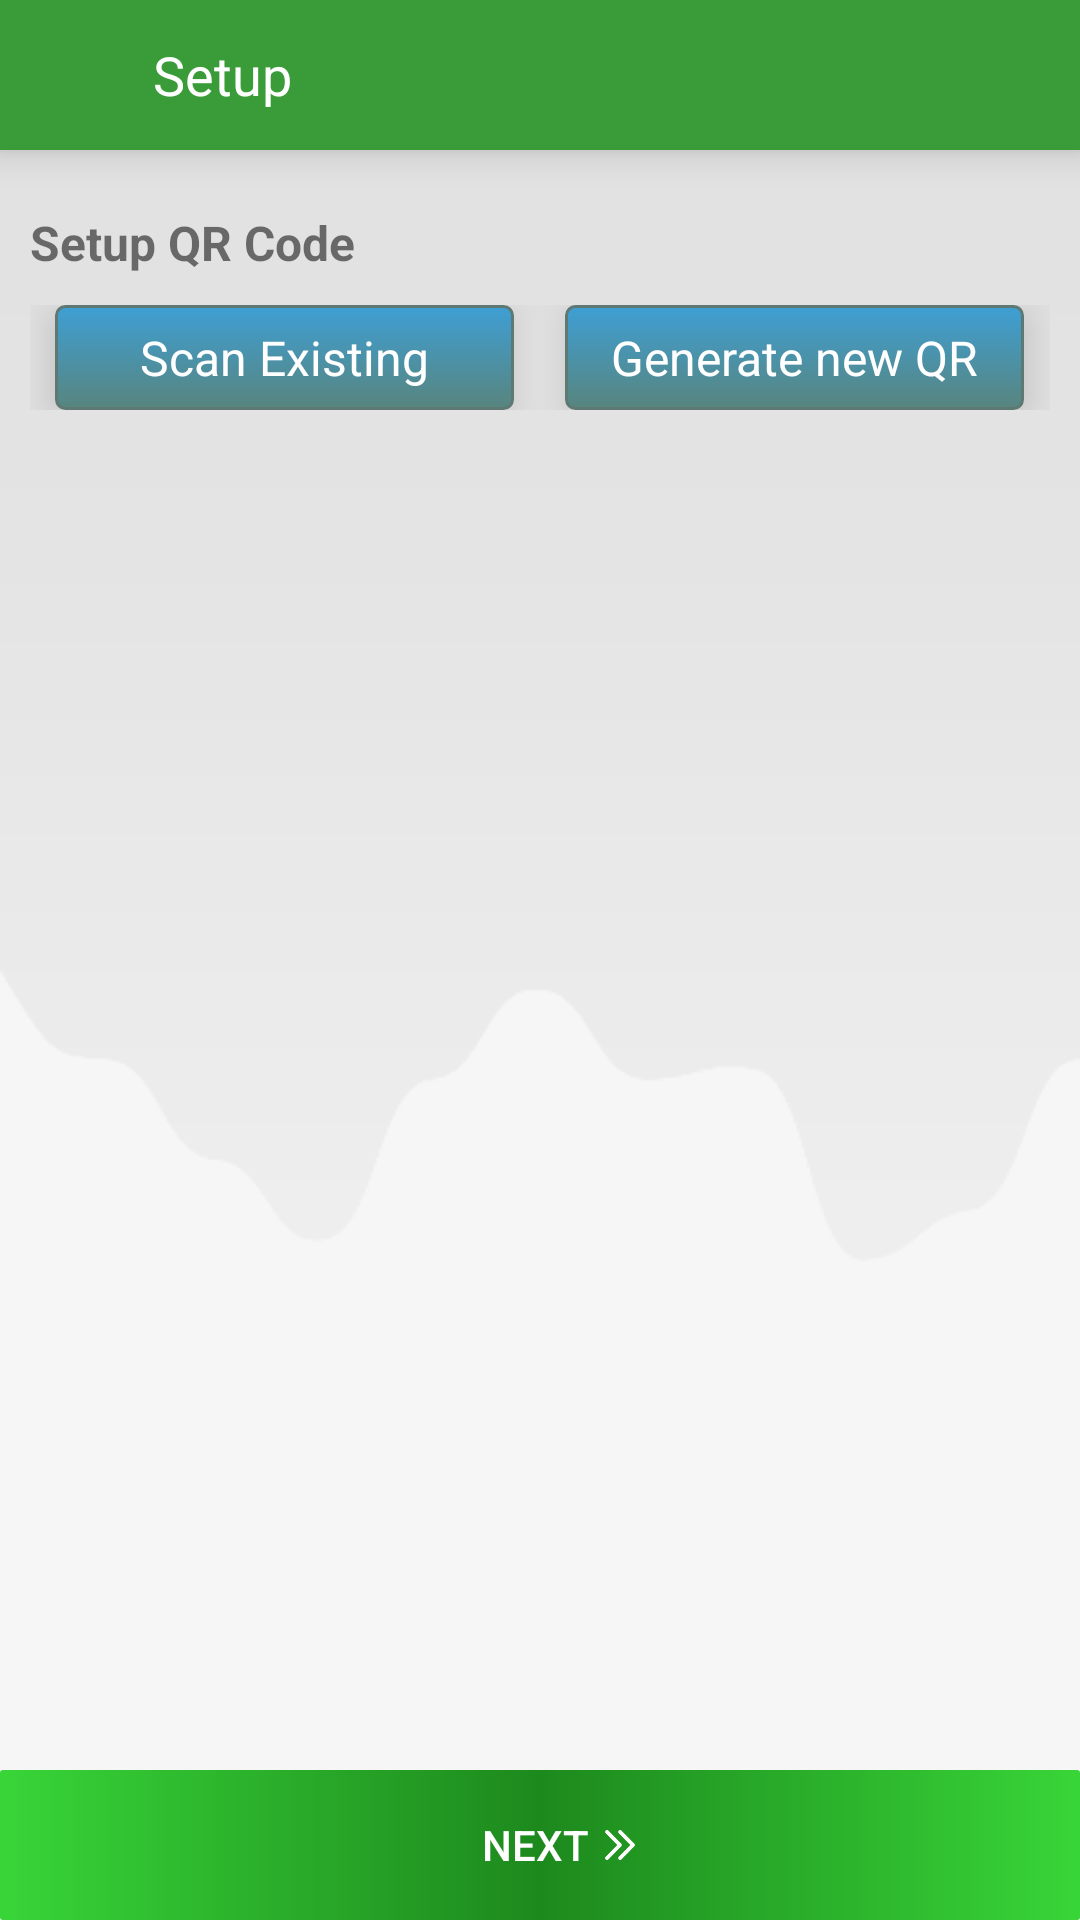

Icons on this 1080×1920 Android screen, each with its box as [left=x1, top=y1, right=x2, bottom=y2]:
arrow: [left=605, top=1830, right=635, bottom=1860]
